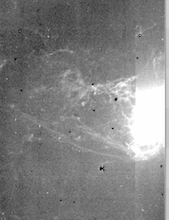Halpha: (3, 18, 133, 170), (120, 17, 169, 85), (83, 142, 164, 175)
